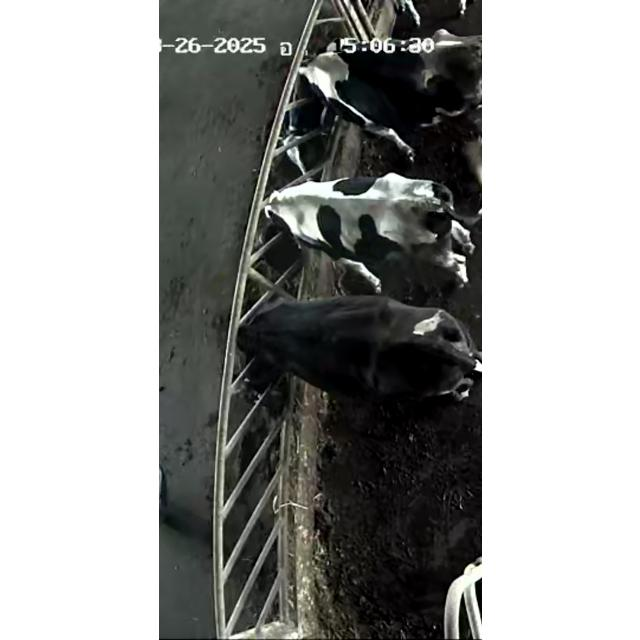eat: (242, 28, 394, 154), (206, 291, 350, 393), (224, 170, 370, 266)
